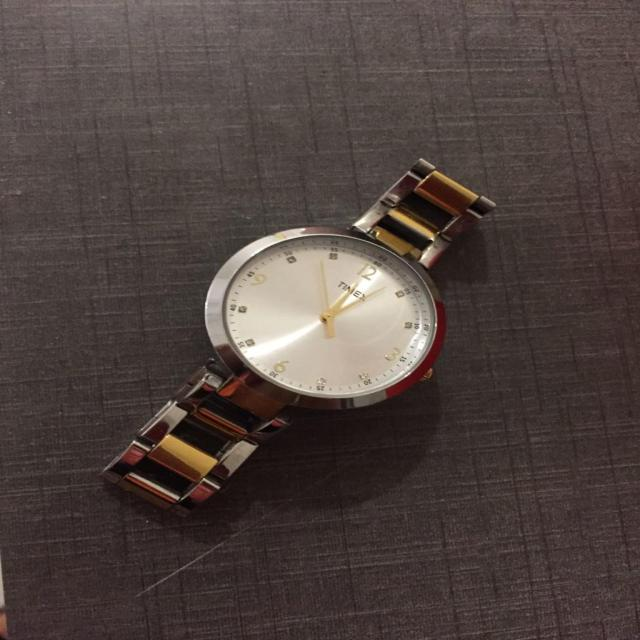Wrist watch: (100, 156, 496, 522)
